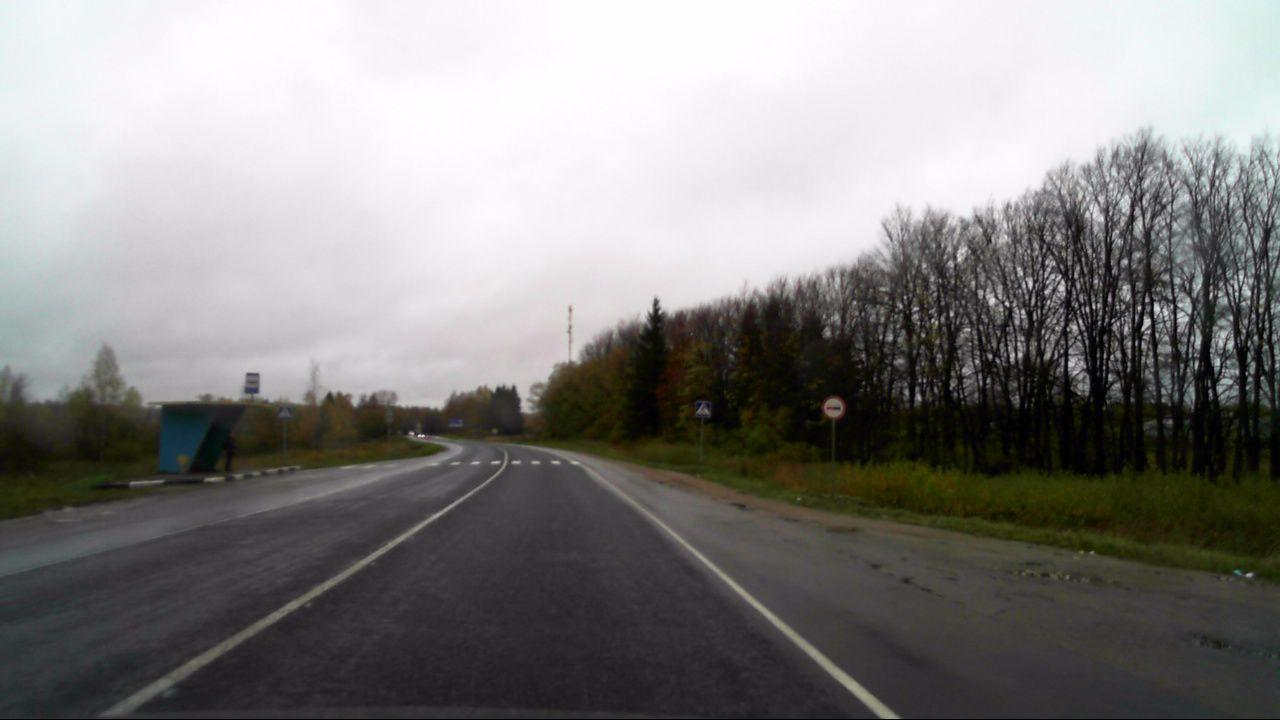road_sign: (821, 396, 845, 420)
